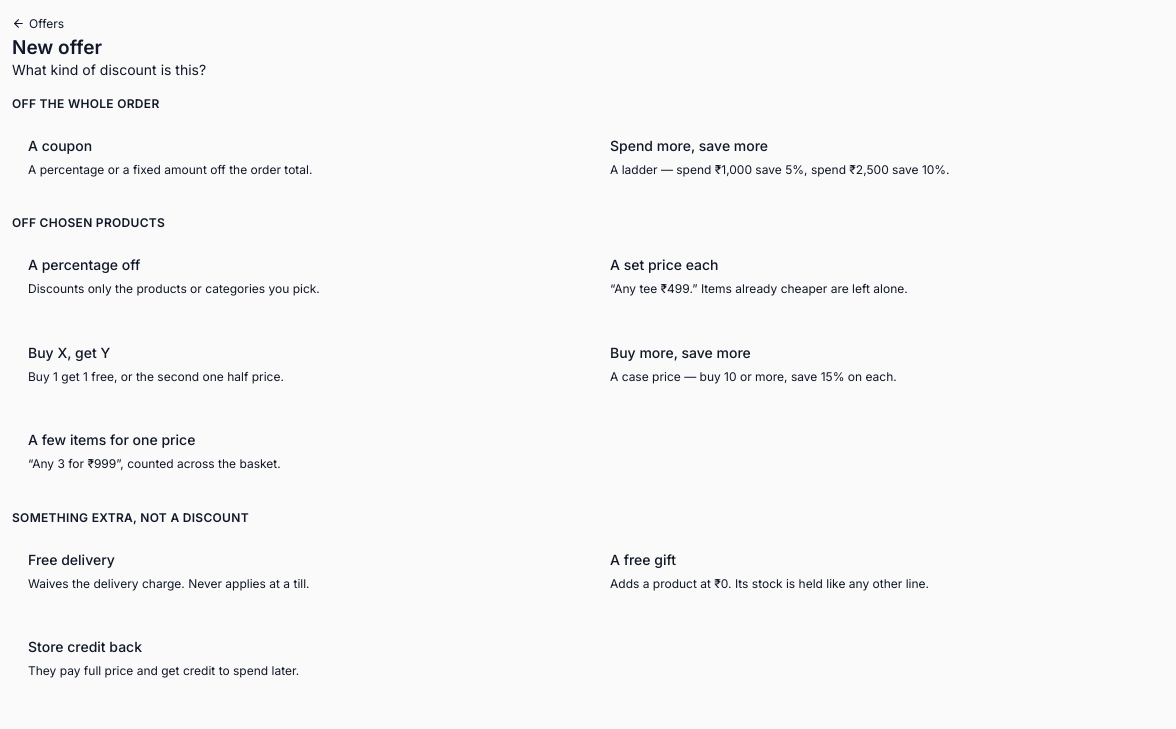
Test: OfferForm — the card layout › names an untitled offer rather than showing an empty summary
Click the button "A coupon A percentage or a fixed amount off the order total." at (60, 145), box [12,120,582,195]
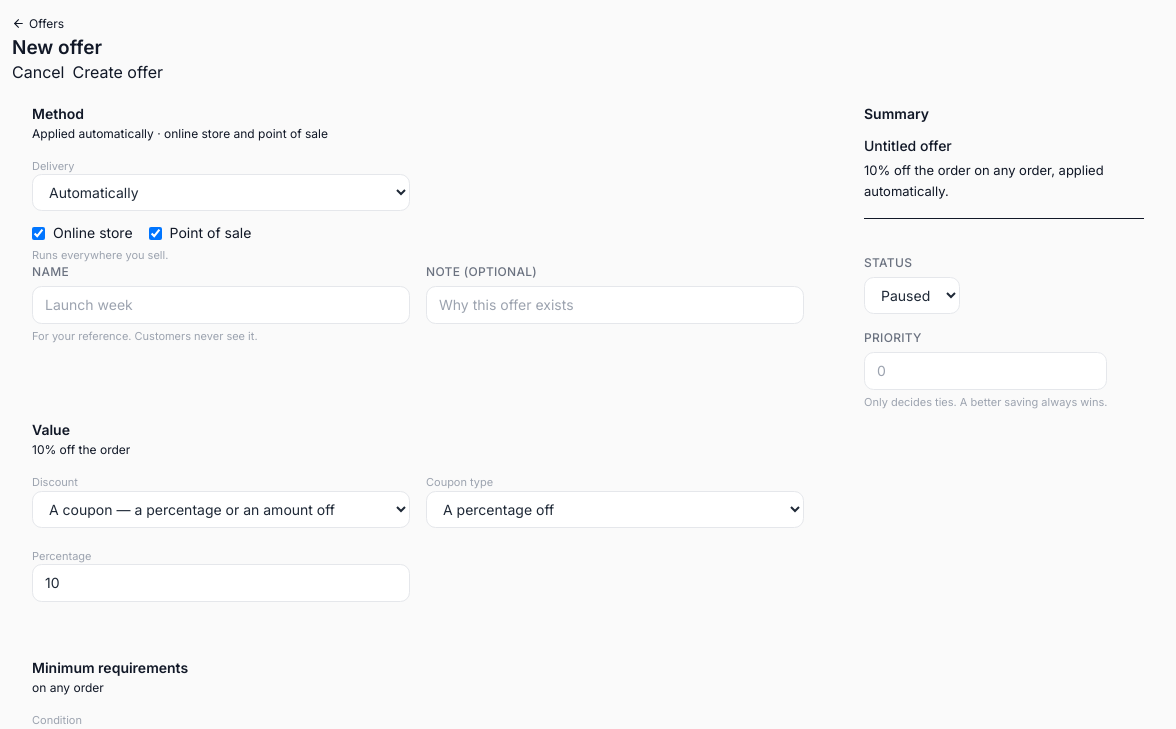
Now the text "Summary" shows "Untitled offer", box [864,137,952,154]
